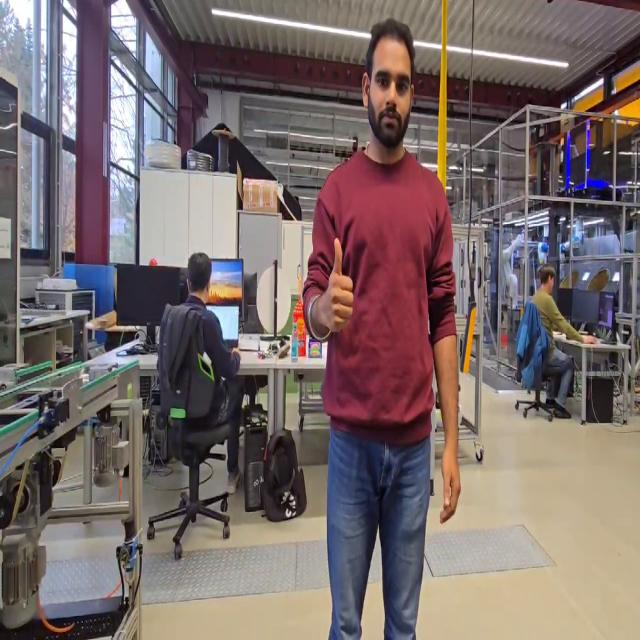thumbs_up: (317, 232, 357, 340)
